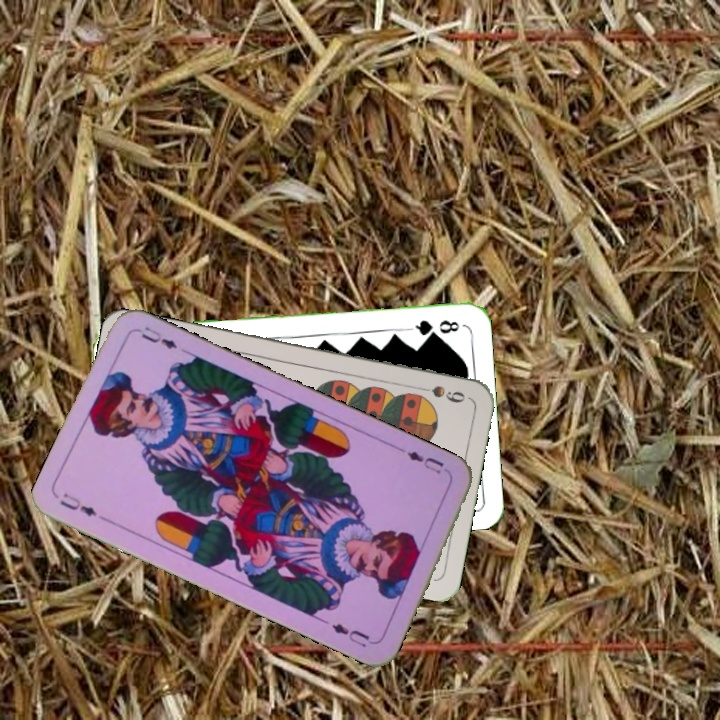EU: (397, 444, 447, 477), (56, 489, 100, 519)
G8: (406, 315, 462, 338)
S9: (410, 381, 468, 406)
